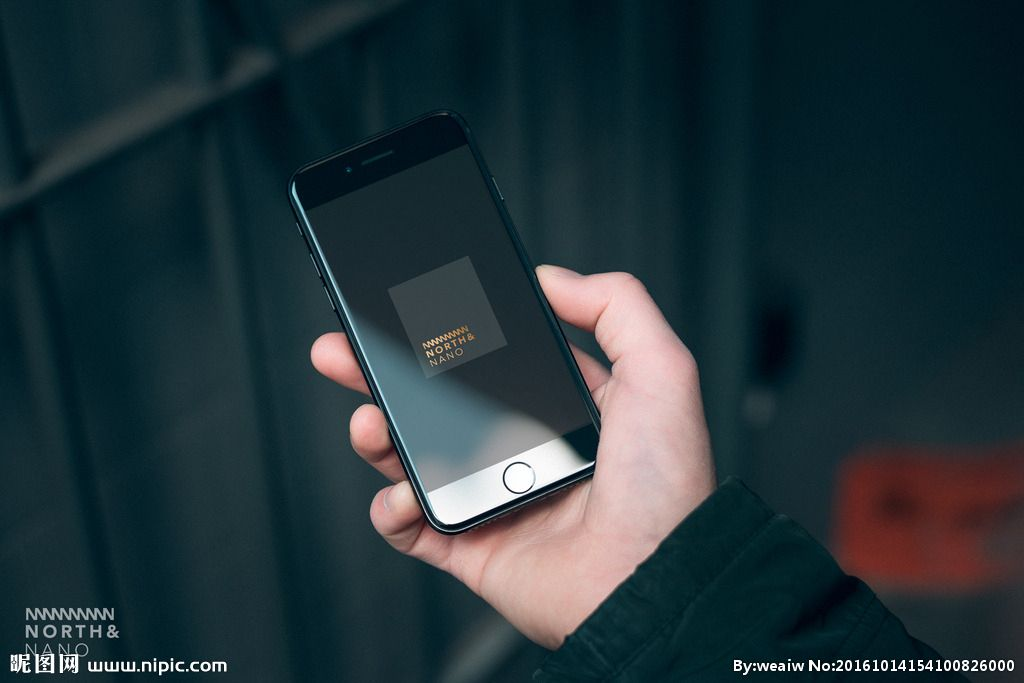phone: (288, 108, 723, 598)
